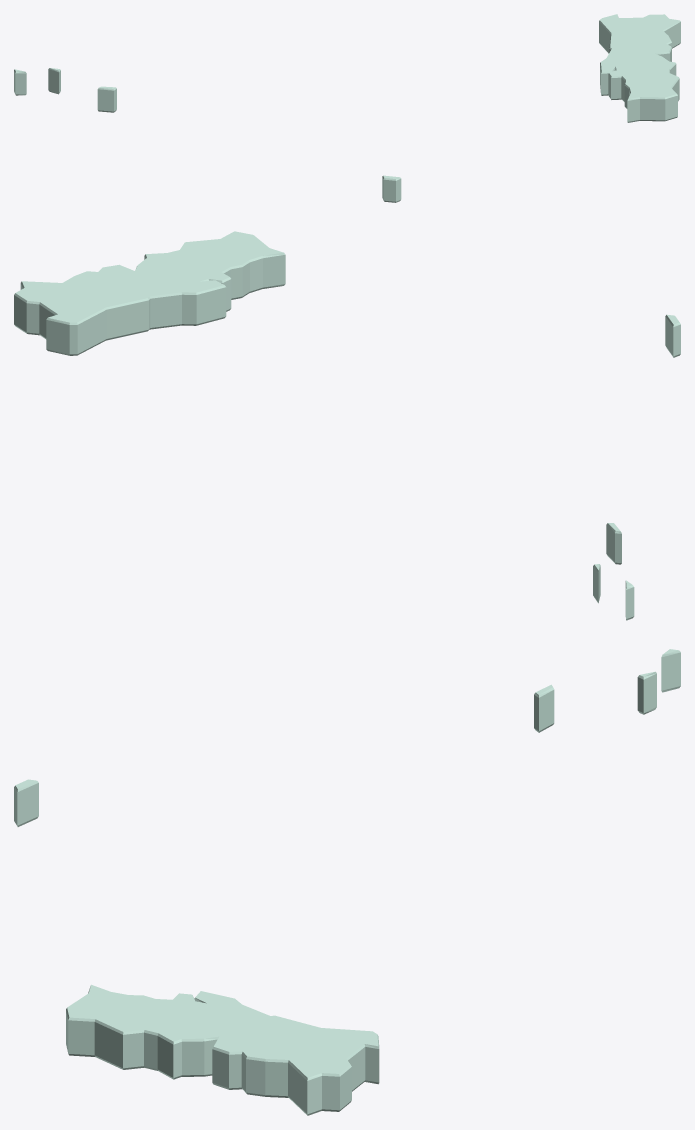
The model's file is PRT.glb.
The picture shows the model from 3 angles, top to bottom: view 1: azimuth 30°, elevation 25°; view 2: azimuth 150°, elevation 25°; view 3: azimuth 270°, elevation 25°; orthographic projection. The views are drawn at different scales.
Size of the model in its own units: 1.65 by 0.068 by 1.08.
